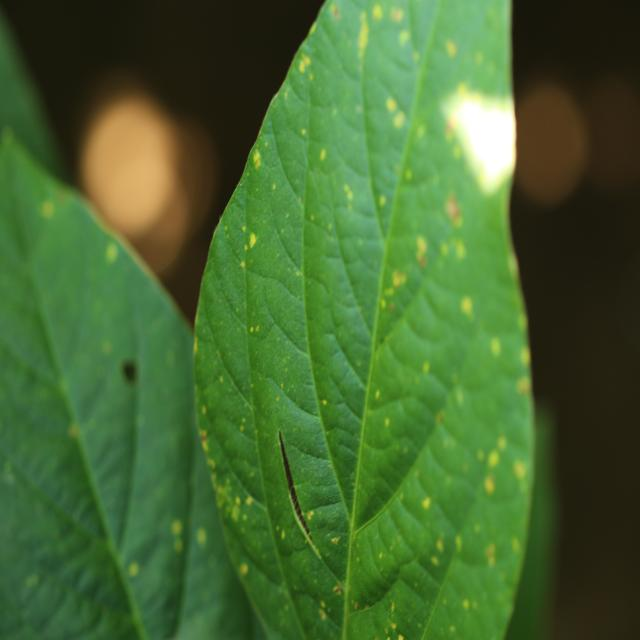Soybean: (189, 0, 538, 640)
downey_mildew: (0, 305, 116, 568), (422, 315, 526, 549), (300, 228, 379, 522), (356, 3, 428, 283), (239, 123, 312, 373), (416, 485, 527, 638), (422, 179, 517, 352), (370, 154, 454, 348), (406, 2, 510, 142), (0, 232, 70, 426), (122, 433, 189, 635), (300, 8, 379, 173), (379, 261, 476, 394), (0, 131, 79, 283), (200, 218, 257, 424), (249, 307, 329, 445), (356, 390, 444, 514), (58, 303, 125, 442), (318, 186, 387, 320), (427, 189, 487, 325), (409, 433, 485, 538), (204, 385, 266, 503), (54, 534, 133, 622), (305, 331, 370, 437), (268, 395, 342, 483), (347, 512, 415, 602), (272, 88, 317, 223), (216, 475, 273, 567), (271, 487, 335, 566), (283, 450, 341, 504), (426, 422, 476, 482), (402, 2, 443, 71), (243, 275, 282, 336)
